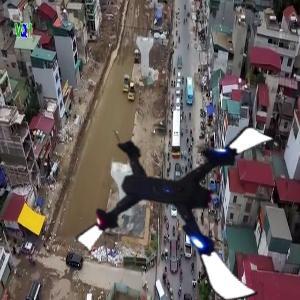drone: (93, 98, 290, 295)
